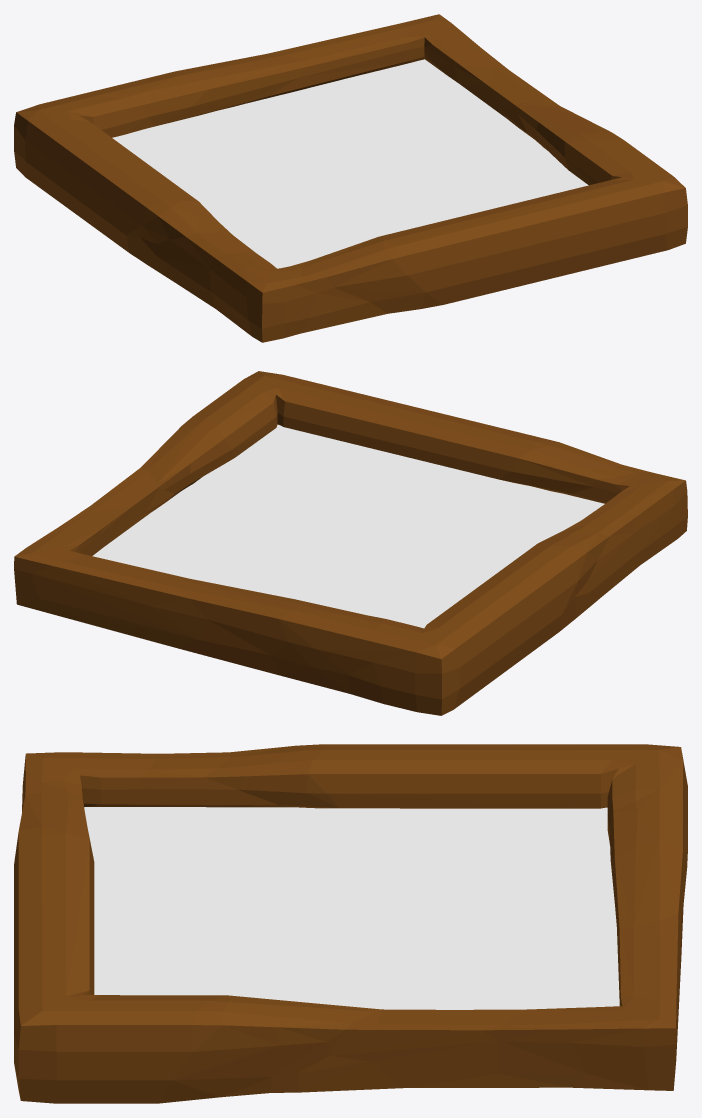
The model's file is Tablet.fbx.
The picture shows the model from 3 angles, top to bottom: view 1: azimuth 30°, elevation 25°; view 2: azimuth 150°, elevation 25°; view 3: azimuth 270°, elevation 25°; orthographic projection. The views are drawn at different scales.
Parts seen in each view (by area): view 1: Tablet; view 2: Tablet; view 3: Tablet.
Boxes of the visible parts, x1=… form: Tablet: x1=14, y1=14, x2=687, y2=342; Tablet: x1=14, y1=371, x2=687, y2=715; Tablet: x1=14, y1=744, x2=687, y2=1103.
Size of the model in its own units: 210 by 30 by 210.
